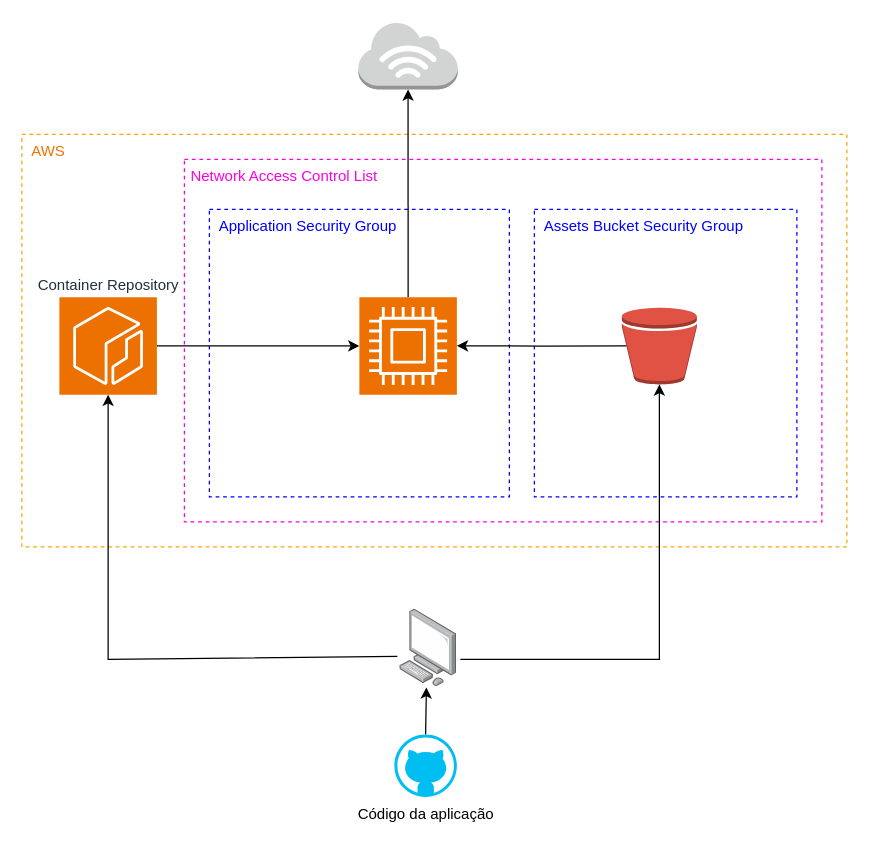
Some shapes in this 869 by 845 pixel diagram are drawn without their labels. Each missing label, with the centre of its shape:
"Application EC2 Instance" goes at (x=407, y=345).
"Bucket de armazenamento de assets de machine learning" goes at (x=659, y=345).
"Máquina de build/treinamento" goes at (x=427, y=647).
